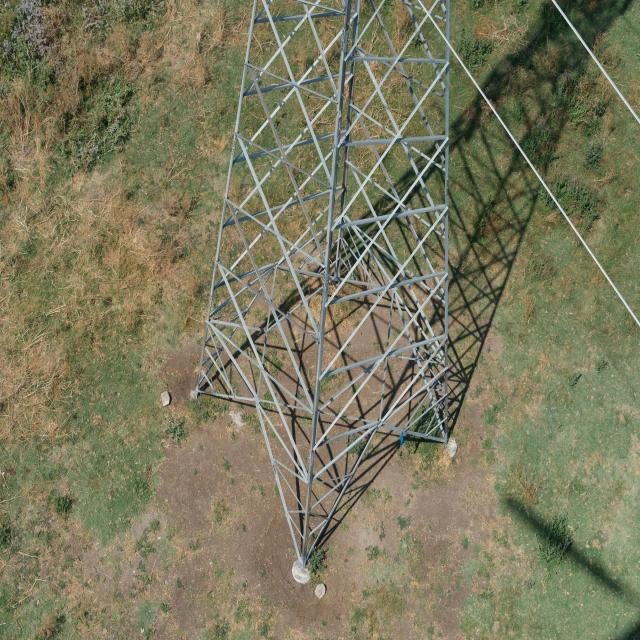direk: (192, 5, 451, 560)
